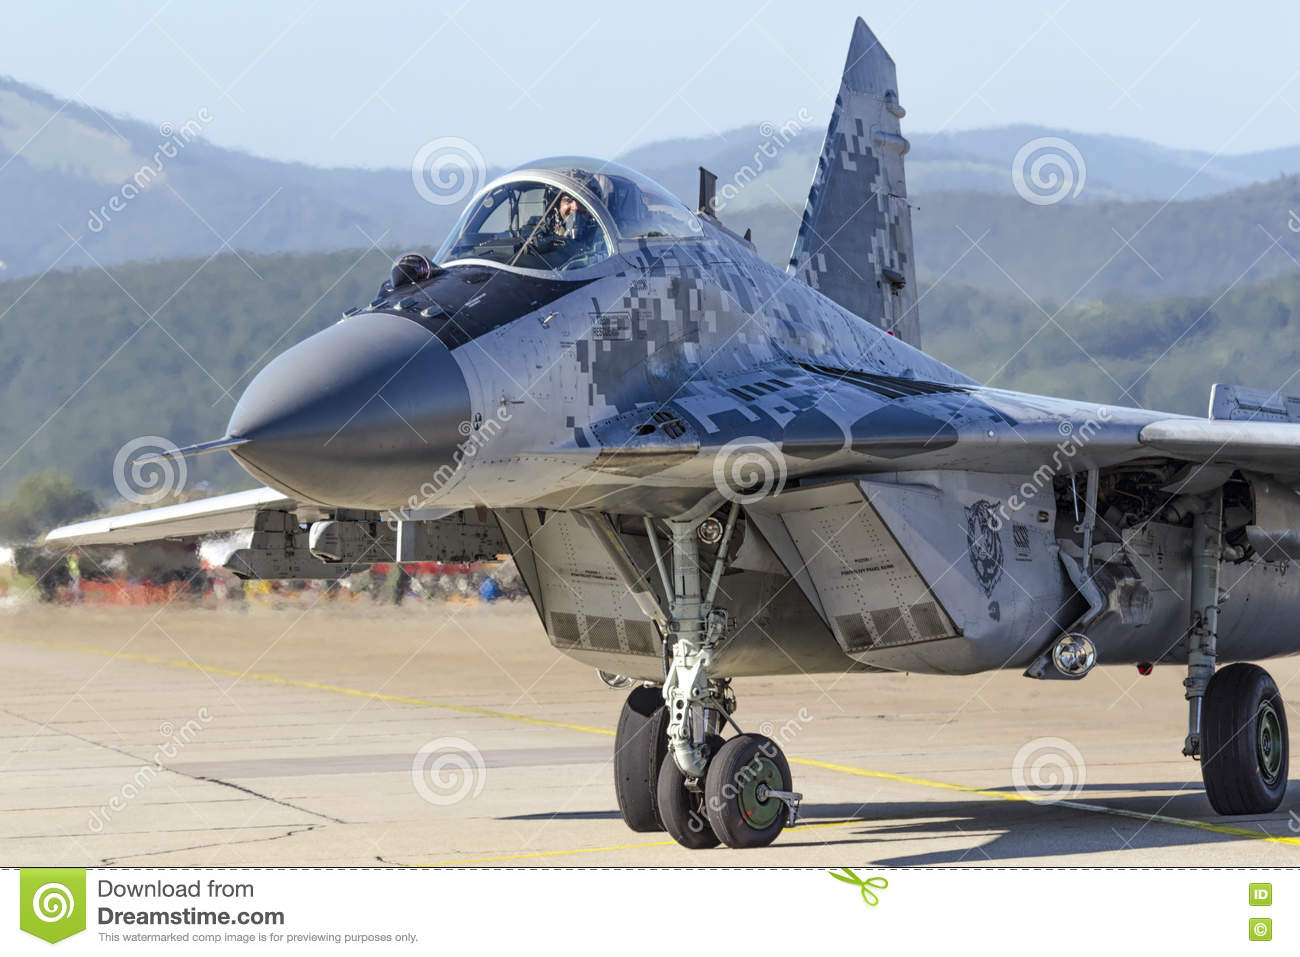Mig-29: (70, 55, 1261, 797)
